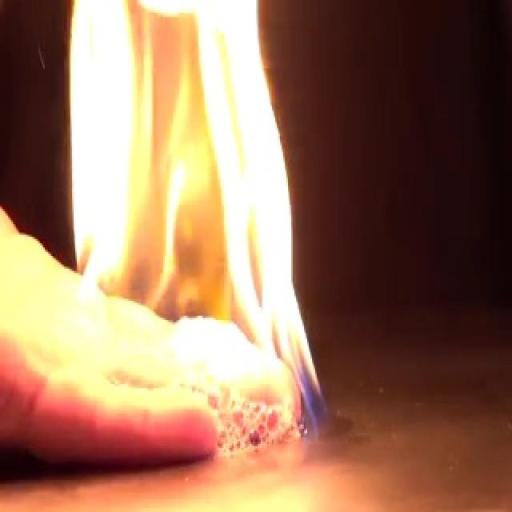smoke: (62, 2, 325, 423)
